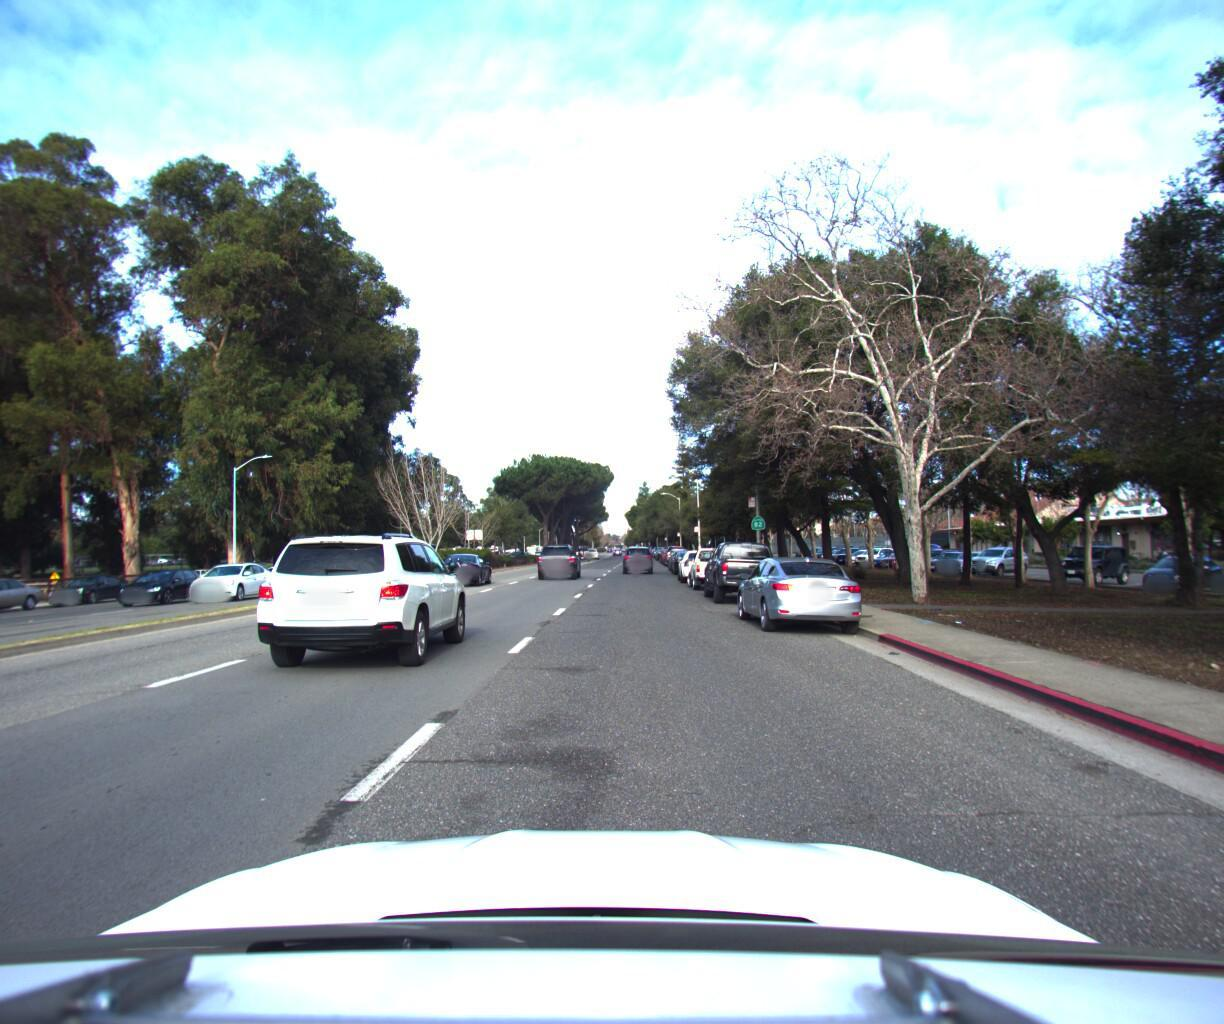car: (238, 521, 479, 682), (726, 543, 874, 641), (700, 530, 793, 605), (184, 551, 280, 598), (112, 554, 207, 597), (45, 565, 145, 602), (685, 533, 747, 587), (0, 567, 58, 617), (431, 545, 494, 583), (532, 534, 582, 575), (676, 539, 728, 578), (219, 551, 279, 584), (255, 554, 303, 582), (621, 536, 653, 566), (666, 537, 693, 561)
